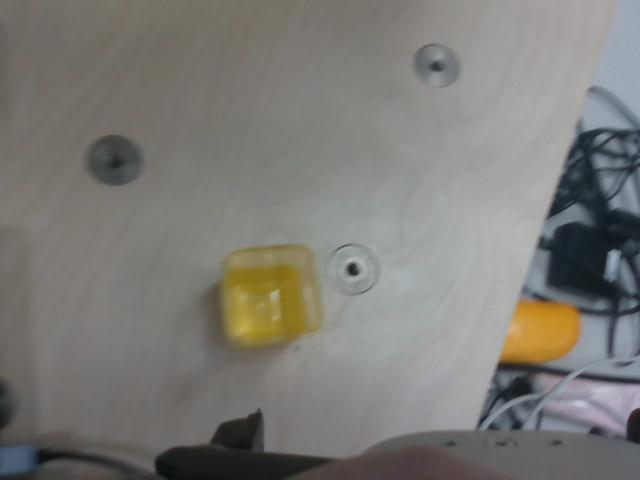yellow_cup: (226, 264, 308, 346)
